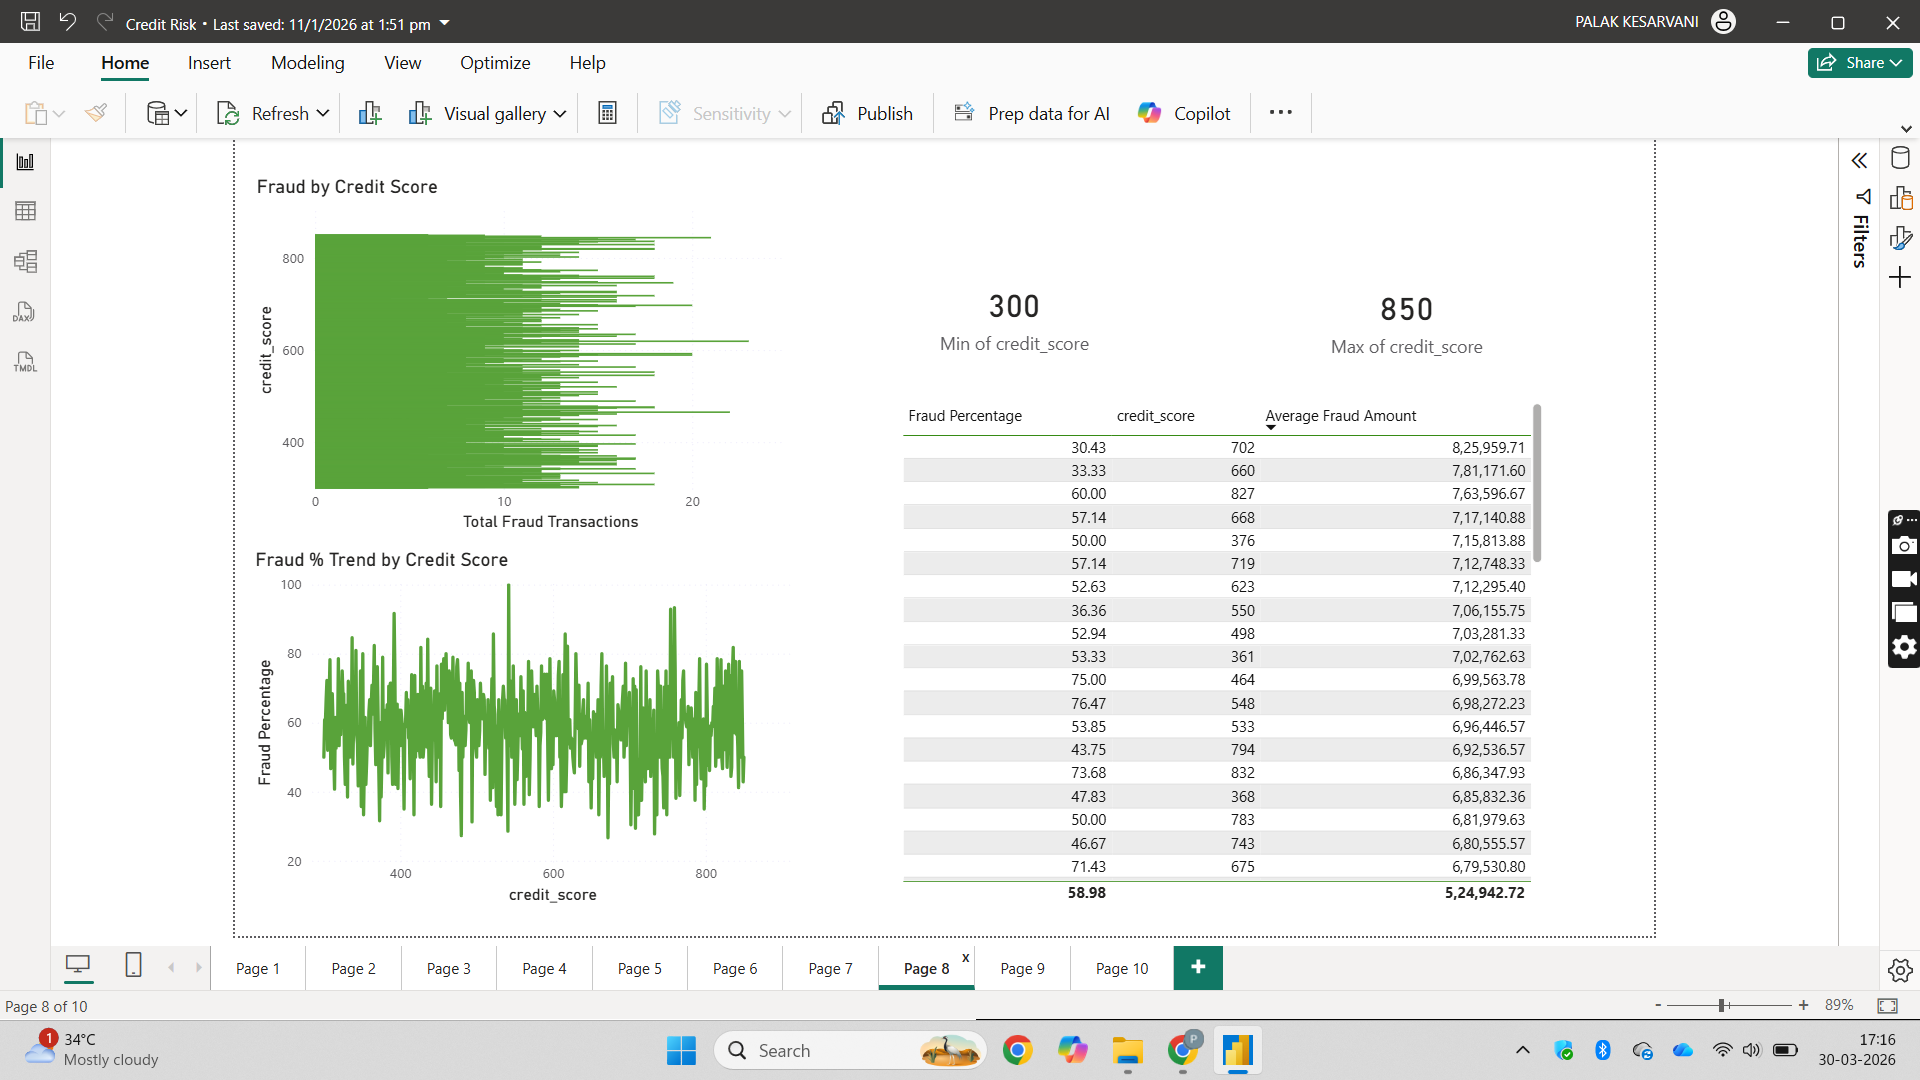

What the dashboard file says about the page in this screenshot:
{"tool":"powerbi","page":{"name":"Page 8","canvas":[1280,720],"ordinal":7},"visuals":[{"type":"barChart","title":"Fraud by Credit Score","fields":{"Category":["final_fraud_cleaned.credit_score"],"Y":["final_fraud_cleaned.Total Fraud Transactions"]},"box":[14.2,33.8,494.8,325.7],"z":0},{"type":"lineChart","title":"Fraud % Trend by Credit Score","fields":{"Category":["final_fraud_cleaned.credit_score"],"Y":["final_fraud_cleaned.Fraud Percentage"]},"box":[14,370,495,326],"z":1},{"type":"card","fields":{"Values":["Min(final_fraud_cleaned.credit_score)"]},"box":[519.7,33.8,366.6,252.7],"z":2},{"type":"card","fields":{"Values":["Max(final_fraud_cleaned.credit_score)"]},"box":[873.9,0,366.6,325.7],"z":3},{"type":"tableEx","fields":{"Values":["final_fraud_cleaned.Fraud Percentage","final_fraud_cleaned.credit_score","final_fraud_cleaned.Average Fraud Amount"]},"box":[596.2,234.9,587.3,461],"z":4}]}

Visuals, with their boxes on the page's 1280x720 design canvas (x1, y1, x2, y2). These are canvas units, not pixel positions in the 1920x1080 screenshot, which may show the page scaled, cropped or inside an application window:
"Fraud by Credit Score" barChart: 14,34,509,360
"Fraud % Trend by Credit Score" lineChart: 14,370,509,696
card - Min(final_fraud_cleaned.credit_score): 520,34,886,286
card - Max(final_fraud_cleaned.credit_score): 874,0,1240,326
tableEx - final_fraud_cleaned.Fraud Percentage x final_fraud_cleaned.credit_score: 596,235,1184,696
